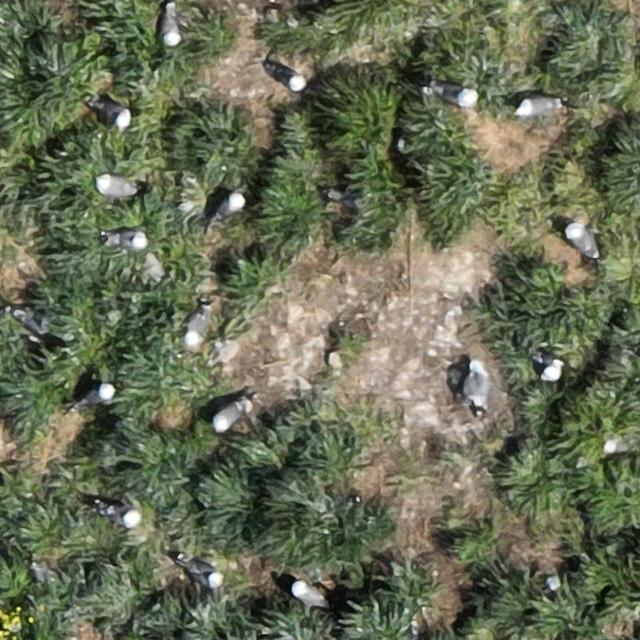umineko: (181, 562, 221, 587), (567, 225, 597, 258), (92, 102, 130, 128), (430, 85, 472, 107), (101, 504, 141, 527), (214, 400, 244, 430), (268, 64, 304, 89), (96, 176, 135, 198), (214, 192, 244, 220), (467, 368, 488, 408), (77, 386, 113, 407), (519, 96, 558, 115), (161, 6, 180, 44), (292, 582, 322, 606), (106, 230, 146, 248), (186, 310, 208, 342), (539, 358, 563, 381)
